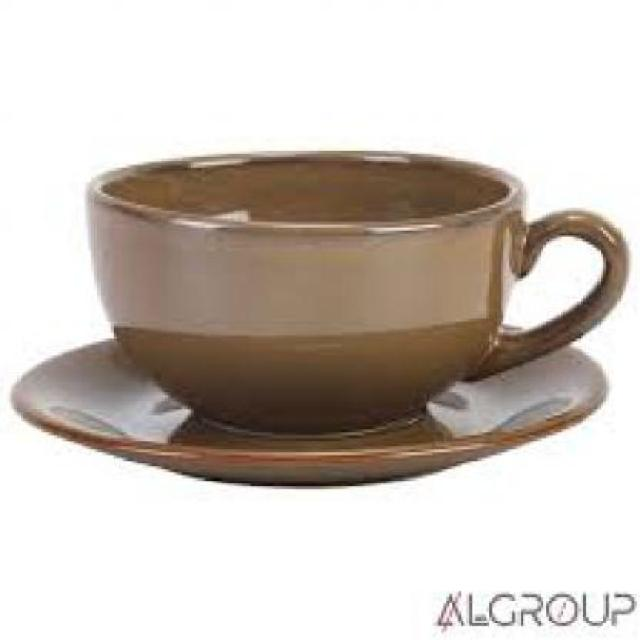kaca: (85, 148, 626, 429), (8, 325, 606, 483)
